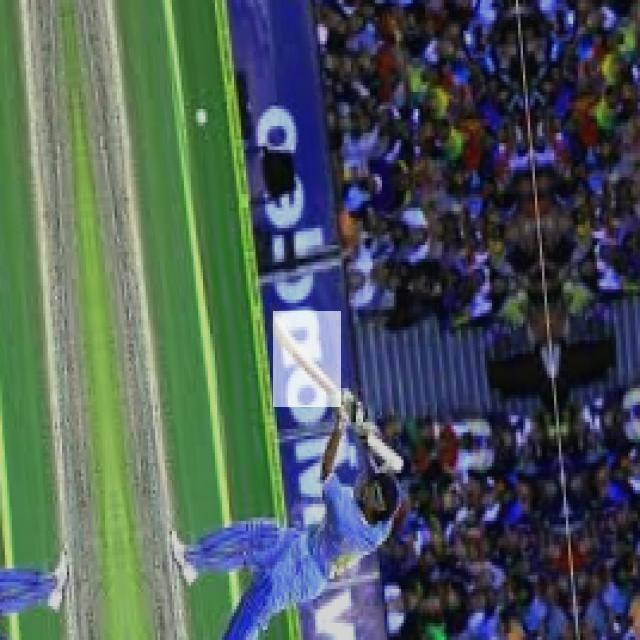bat: (274, 306, 346, 403)
toe: (261, 315, 302, 346)
